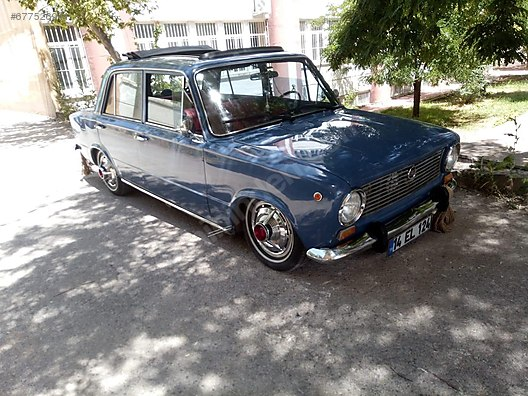murat: (60, 41, 466, 270)
